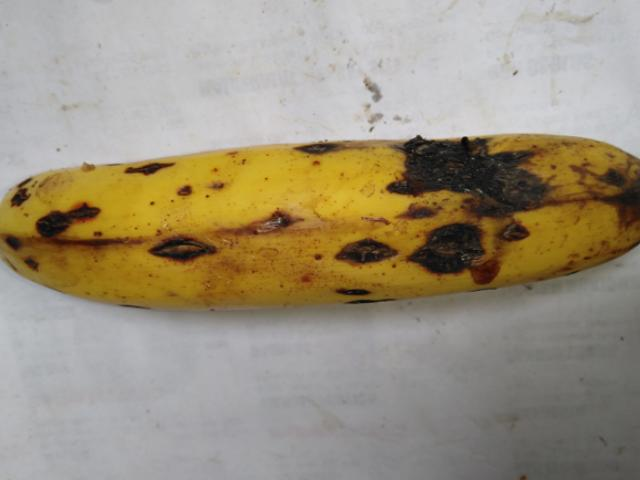rotten: (395, 119, 548, 290), (3, 176, 115, 271), (583, 122, 639, 286), (276, 106, 356, 175), (93, 132, 182, 186), (141, 220, 221, 275), (322, 212, 377, 282), (234, 197, 303, 246)
